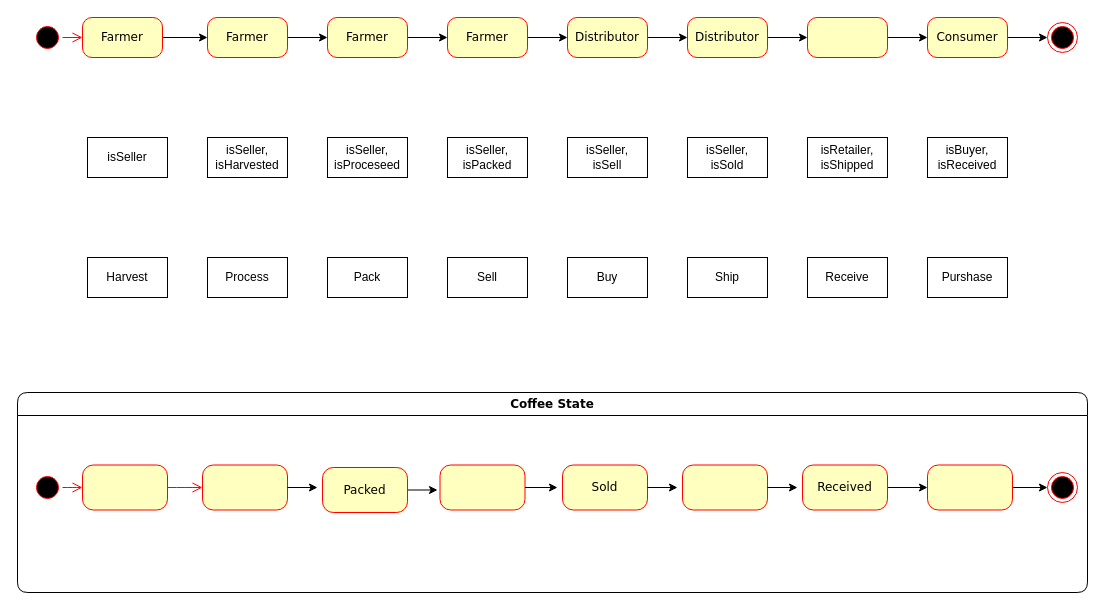
Some shapes in this 1105 by 610 pixel diagram are drawn without their labels. The centre of each missing label's shape, as x and y in pixels:
"ForSale" goes at point 482,487.
"Harvested" goes at point 125,487.
"Processed" goes at point 245,487.
"Purshased" goes at point 969,487.
"Retailer" goes at point 847,37.
"Shipped" goes at point 725,487.
